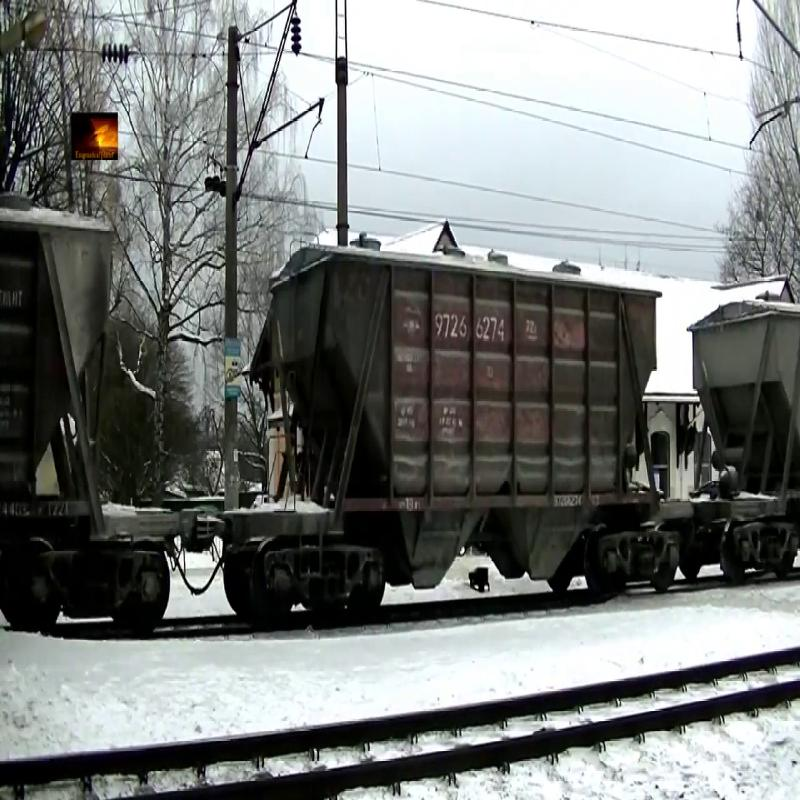train: (253, 246, 660, 600), (1, 209, 192, 627)
